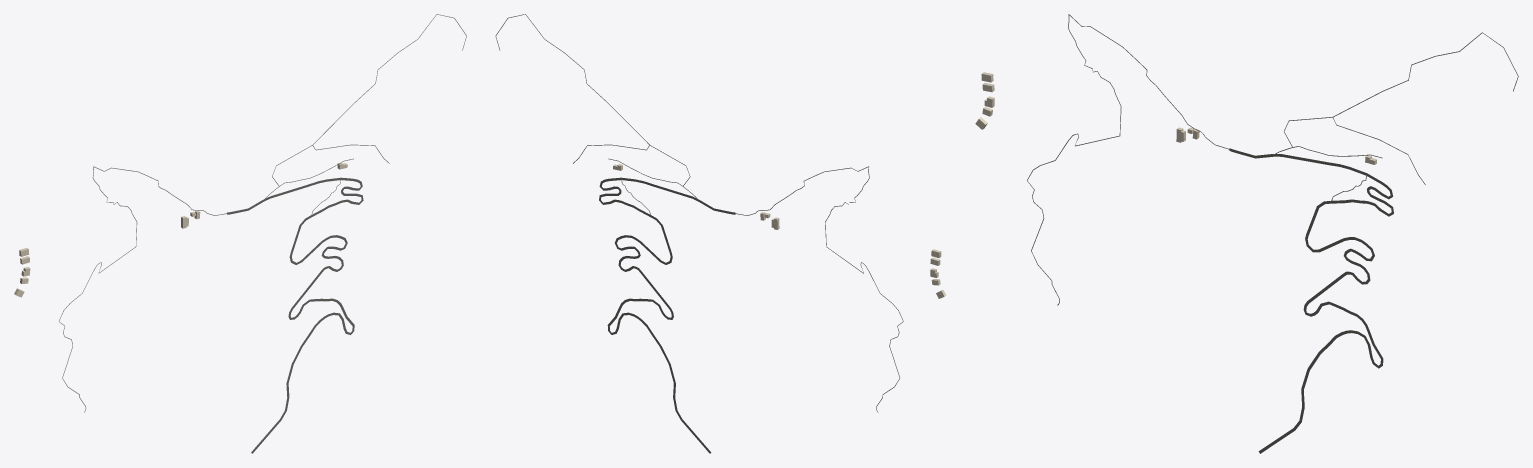
Rendered from historic-palestine-11_24_3530_3183.glb.
The picture shows the model from 3 angles, left to right: view 1: azimuth 30°, elevation 25°; view 2: azimuth 150°, elevation 25°; view 3: azimuth 330°, elevation 25°; orthographic projection. The views are drawn at different scales.
Parts seen in each view (by area): view 1: Road .001; view 2: Road .001; view 3: Road .001.
Part boxes in pixels (<box>): Road .001: <box>251,177,363,453</box>; Road .001: <box>599,177,711,453</box>; Road .001: <box>1258,173,1393,453</box>.
Size of the model in its own units: 1022 by 855 by 8.7.
